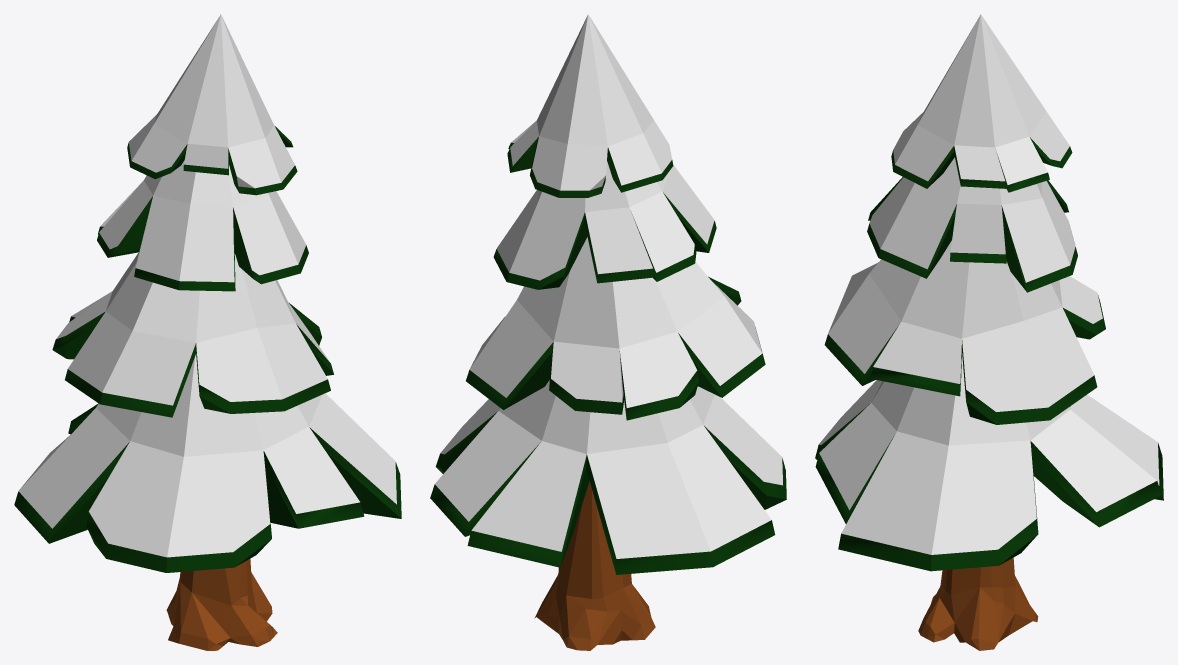
Rendered from tree1_snowy.fbx.
3 views of the same model, side by side, from view 1: azimuth 30°, elevation 25°; view 2: azimuth 150°, elevation 25°; view 3: azimuth 270°, elevation 25° (orthographic).
Parts seen in each view (by area): view 1: pCone9; view 2: pCone9; view 3: pCone9.
Boxes of the visible parts, <box> form: pCone9: <box>14,14,401,650</box>; pCone9: <box>430,14,786,650</box>; pCone9: <box>815,14,1163,650</box>.
Bounding box in the file's own units: 517 × 906 × 467.
